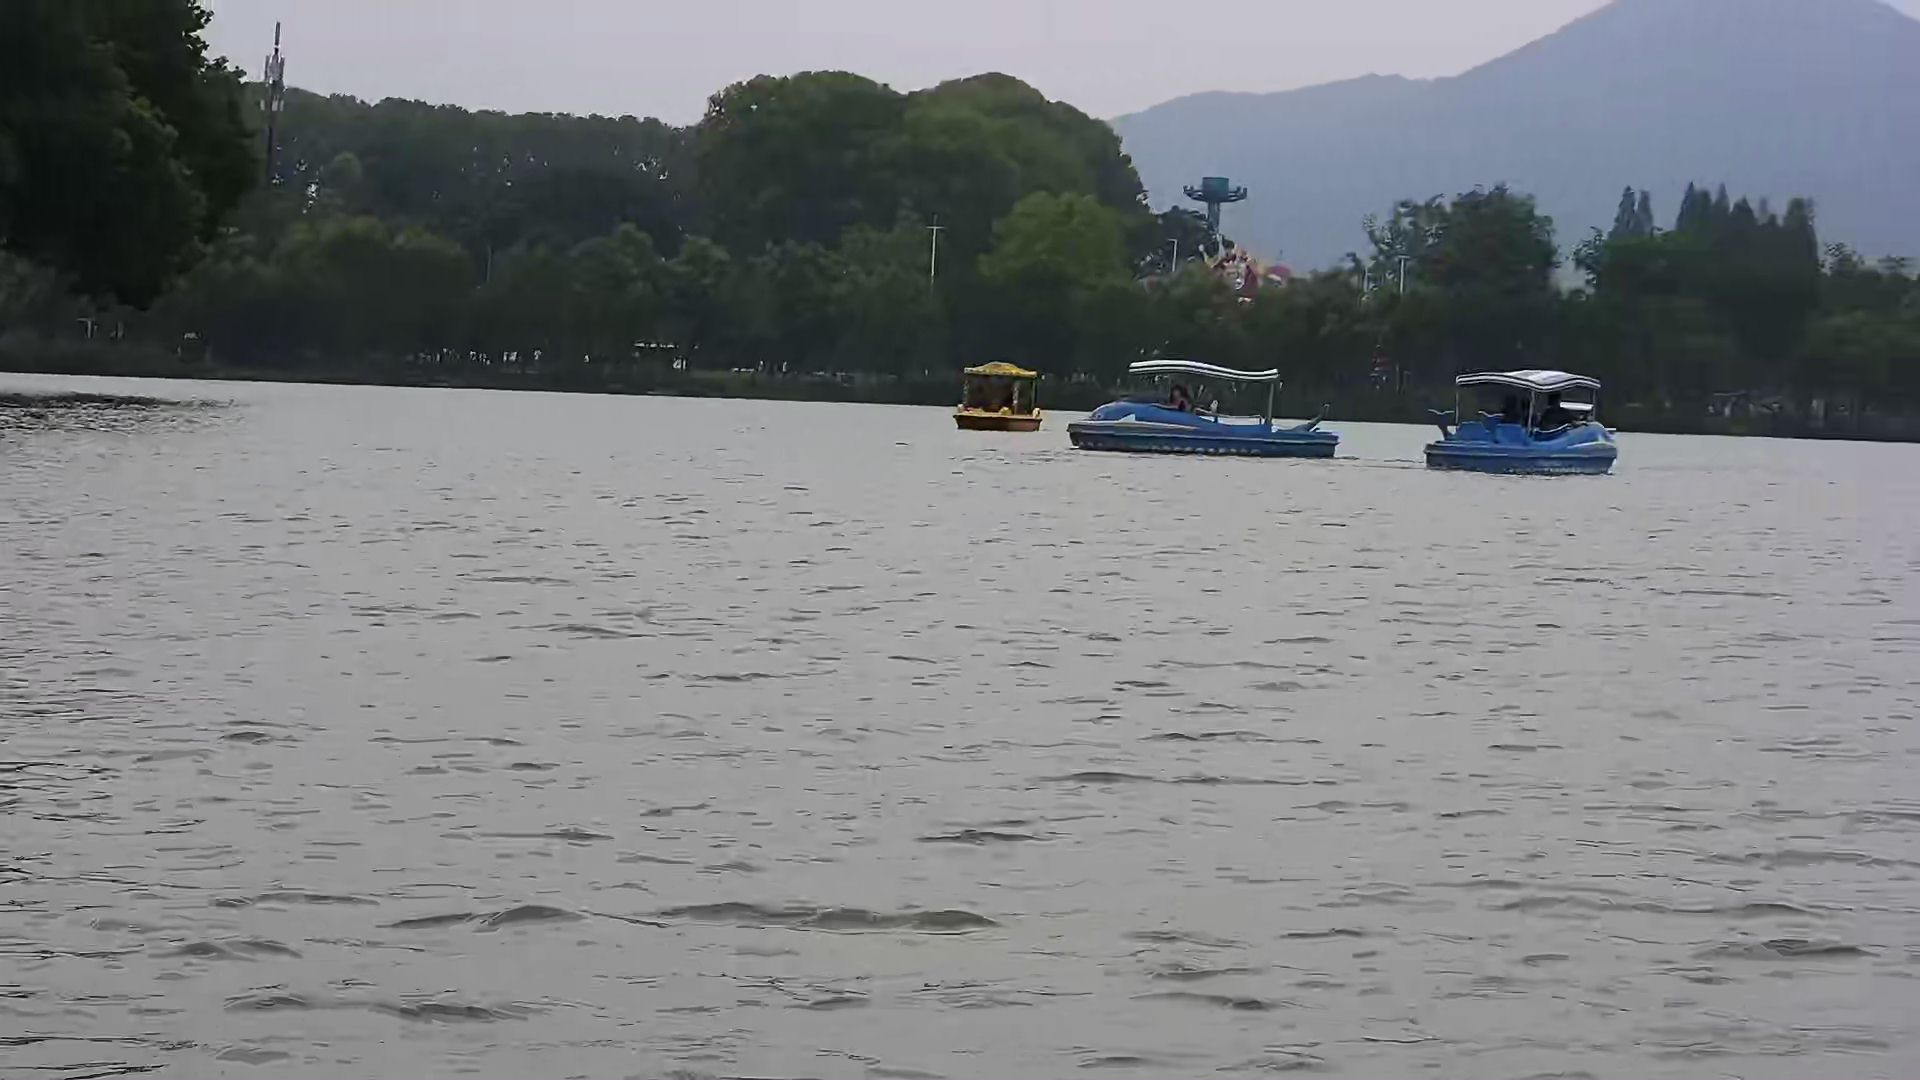boat: (1069, 353, 1335, 463), (1416, 363, 1622, 480), (953, 353, 1048, 431)
